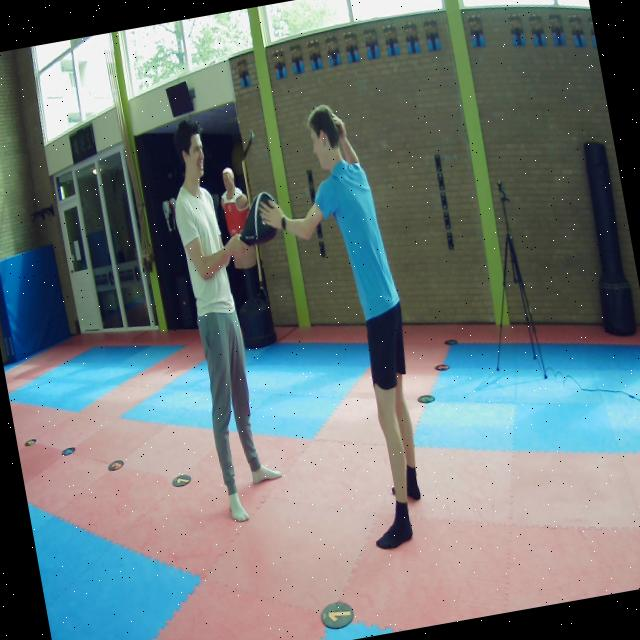paddle: (240, 192, 278, 244)
